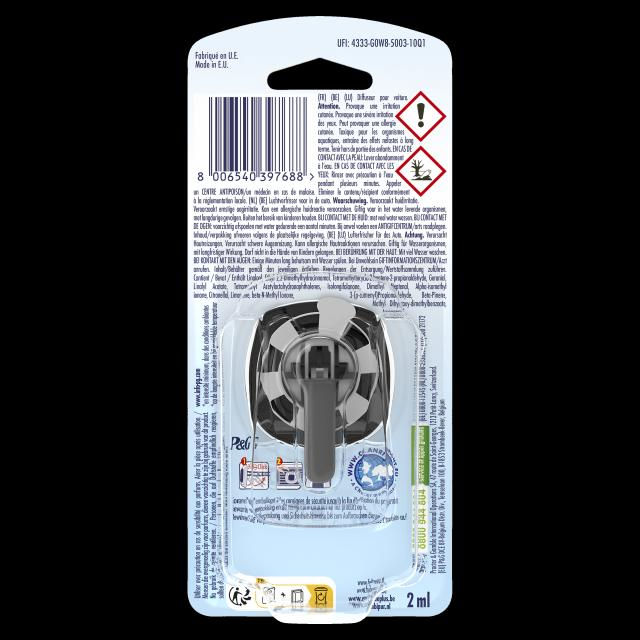GHS_Symbol_ENVIRONMENT: (394, 145, 446, 198)
GHS_Symbol_EXCLAMATION_MARK: (395, 90, 446, 142)
